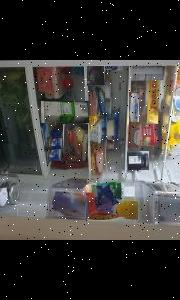Aguacate: (86, 66, 104, 86)
Leche: (40, 101, 88, 123)
Mantequilla: (138, 124, 156, 146)
Mayonesa: (171, 96, 180, 116)
Mermelada: (125, 151, 148, 170)
Queso: (62, 124, 87, 161), (128, 92, 138, 122)
Tomate: (61, 75, 72, 89)
Yogur: (46, 137, 62, 161)
